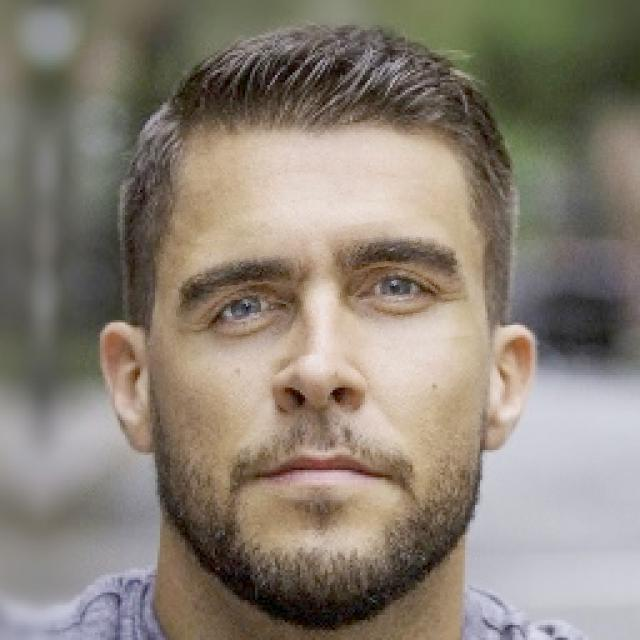no-glasses: (156, 220, 471, 363)
